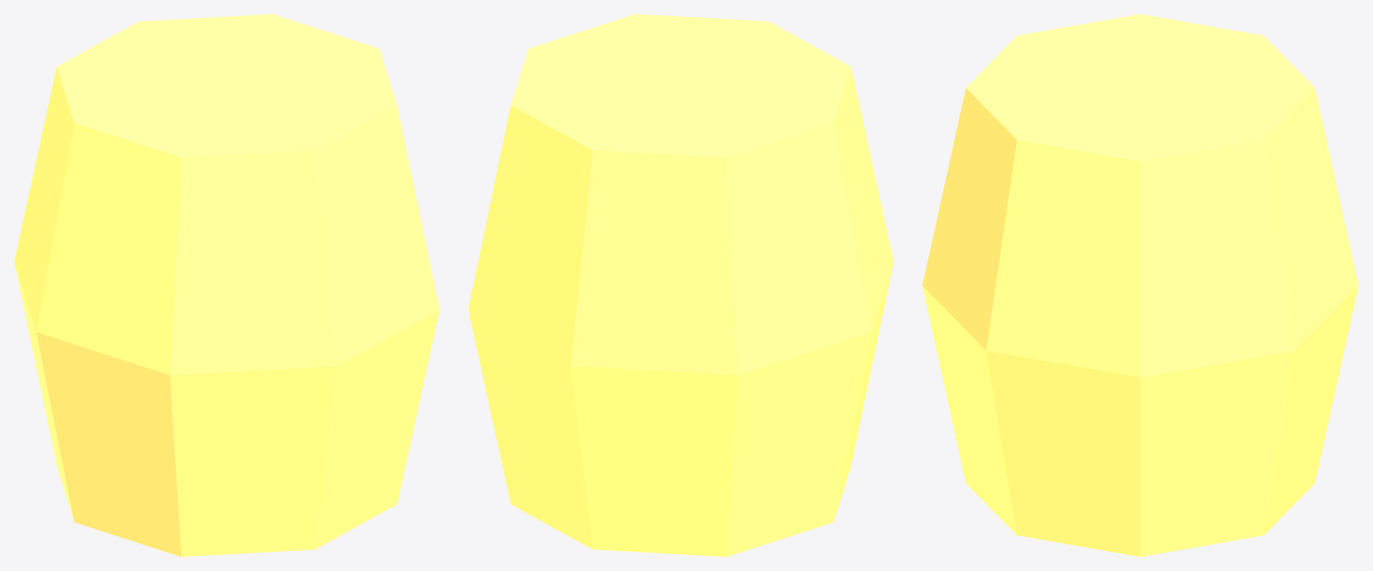
Rendered from prop_lamp_corner_ne_head.glb.
3 renders of one model, left to right at view 1: azimuth 30°, elevation 25°; view 2: azimuth 150°, elevation 25°; view 3: azimuth 270°, elevation 25°, orthographic.
Visible parts, largest first — view 1: PROP_Lamp_Corner_NE_Head; view 2: PROP_Lamp_Corner_NE_Head; view 3: PROP_Lamp_Corner_NE_Head.
Boxes of the visible parts, x1,y1,x2,y2 form: PROP_Lamp_Corner_NE_Head: (14, 14, 439, 556); PROP_Lamp_Corner_NE_Head: (468, 14, 893, 556); PROP_Lamp_Corner_NE_Head: (922, 14, 1358, 556).
Bounding box in the file's own units: 0.36 × 0.36 × 0.36.
